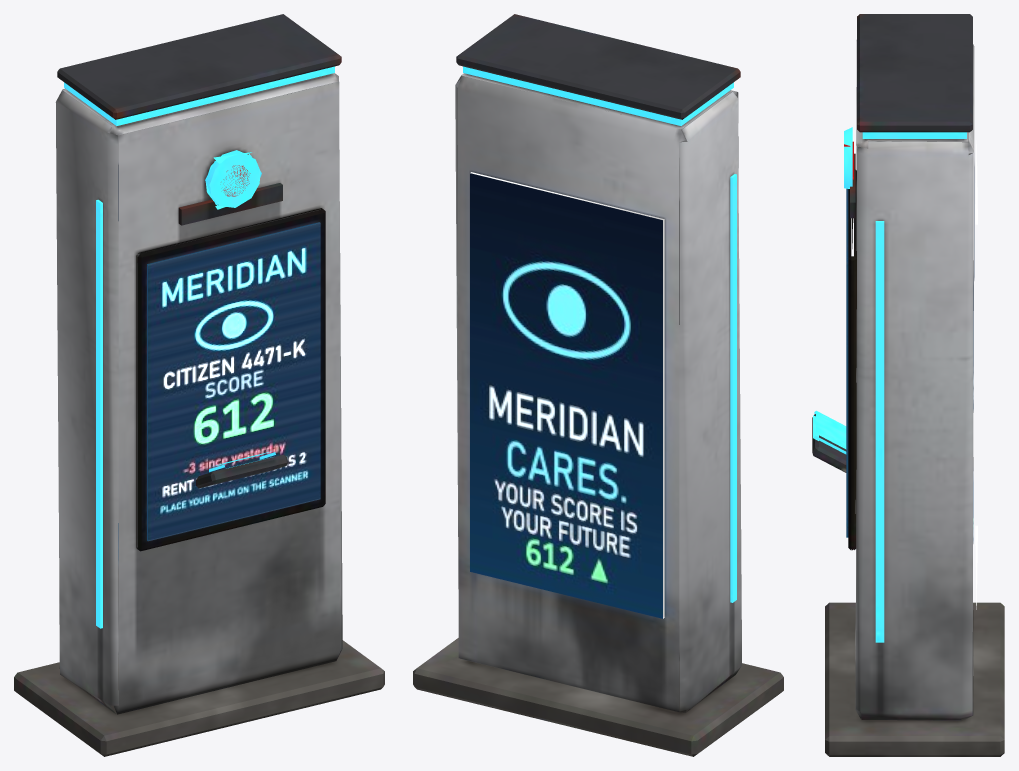
The model's file is data_kiosk_lod1.glb.
3 renders of one model, left to right at view 1: azimuth 30°, elevation 25°; view 2: azimuth 150°, elevation 25°; view 3: azimuth 270°, elevation 25°, orthographic.
Visible parts, largest first — view 1: data_kiosk; view 2: data_kiosk; view 3: data_kiosk.
Part boxes in pixels (box(x1,y1,x2,y2)): data_kiosk: box(14, 14, 384, 756); data_kiosk: box(413, 14, 783, 756); data_kiosk: box(812, 14, 1004, 756).
Size of what is drawn, in the model's own units: 1.12 by 2.37 by 0.6643.
Materials: 1 (1 with a texture image).
